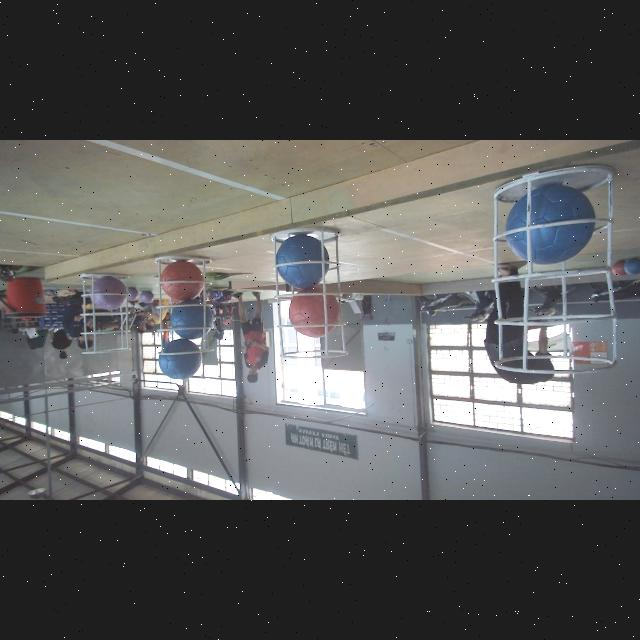B: (506, 182, 602, 270), (272, 230, 328, 288), (158, 342, 202, 381), (173, 297, 213, 337)
R: (290, 286, 344, 336), (160, 261, 203, 303)
